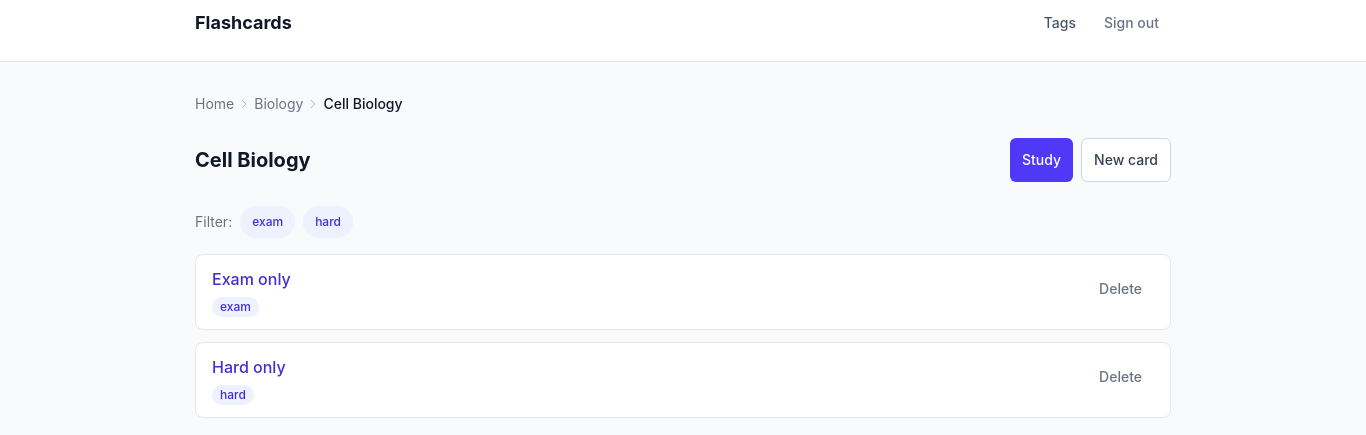
Test: shows a no-match message when the tag filter excludes every card
What coordinates should you click on to do the following:
click the button with aria-label "Filter by exam"
I would click on:
 (268, 222)
Its box is [240,206,295,238].
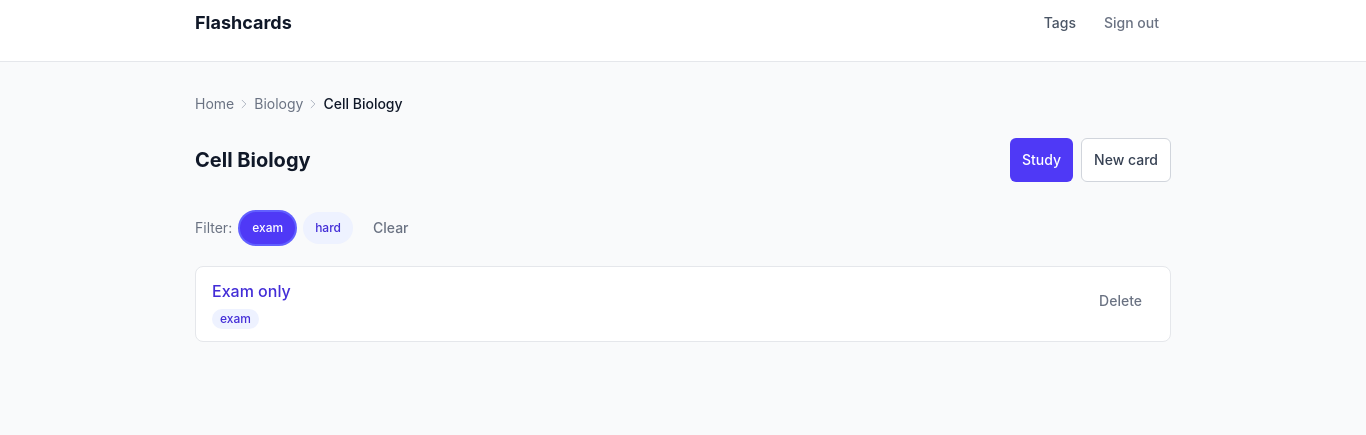
What coordinates should you click on to do the following:
click the button with aria-label "Filter by hard"
I would click on:
 (328, 228)
Its box is [303,212,353,244].
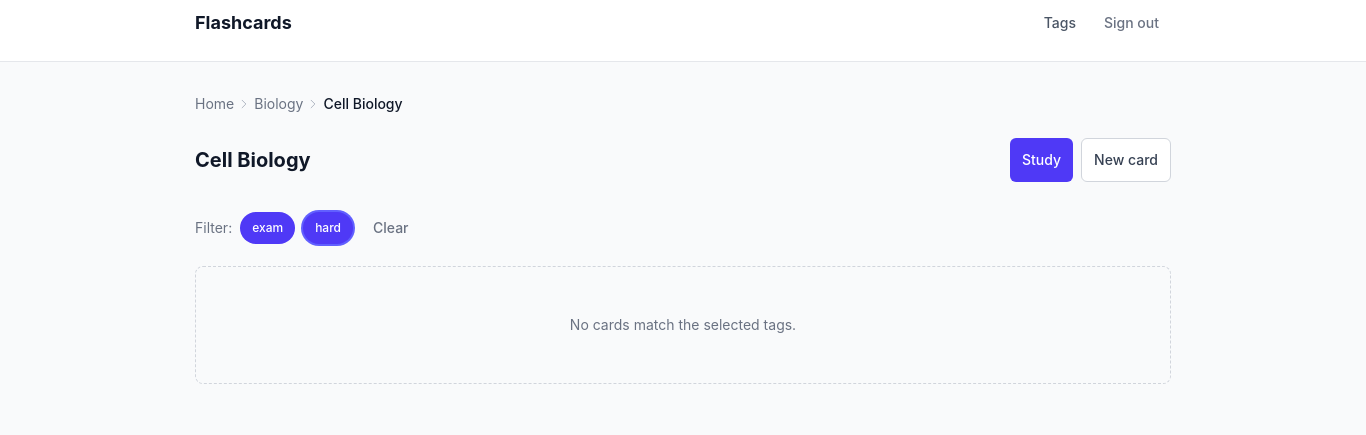
Result: the text "No cards match the selected tags." is shown at [570,315,796,335]
